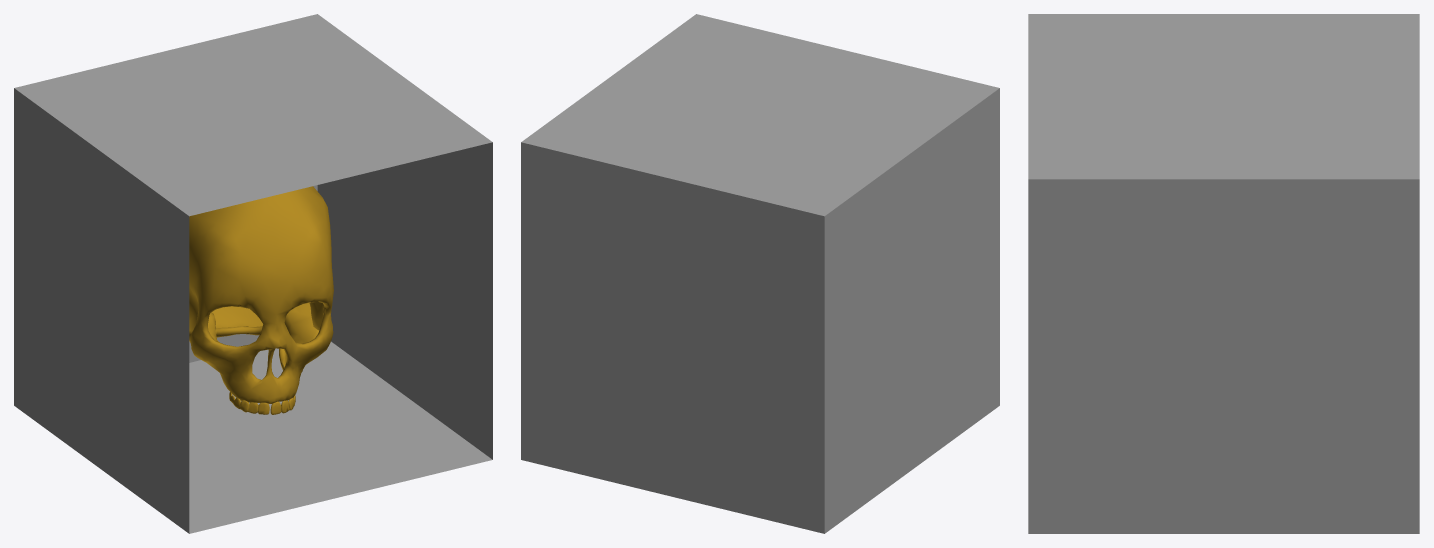
The model's file is skull.obj.
3 views of the same model, side by side, from view 1: azimuth 30°, elevation 25°; view 2: azimuth 150°, elevation 25°; view 3: azimuth 270°, elevation 25° (orthographic). The views are drawn at different scales.
Parts seen in each view (by area): view 1: Cube, Sphere.001_Sphere.000; view 2: Cube; view 3: Cube.
Part boxes in pixels (left/top/right/bottom): Cube: left=14, top=14, right=492, bottom=533; Sphere.001_Sphere.000: left=189, top=186, right=333, bottom=403; Cube: left=521, top=14, right=999, bottom=533; Cube: left=1028, top=14, right=1419, bottom=533.
Size of the model in its own units: 0.8717 by 0.8717 by 0.8717.
